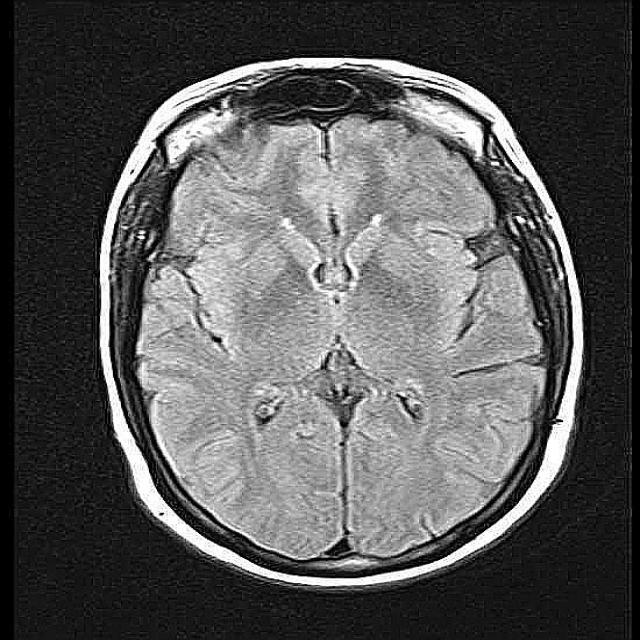notumor: (99, 61, 585, 596)
